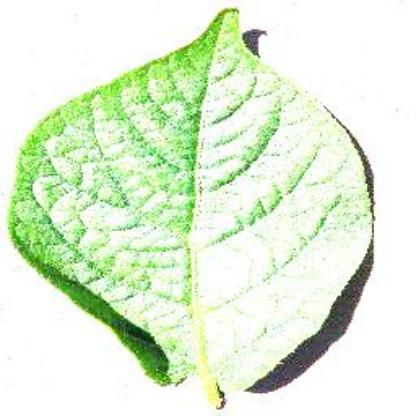Healthy-plant: (10, 7, 376, 405)
